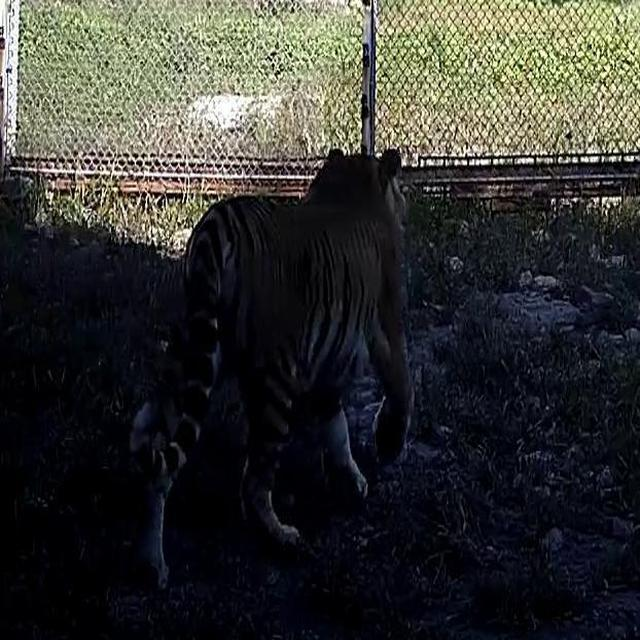tiger: (126, 145, 415, 589)
